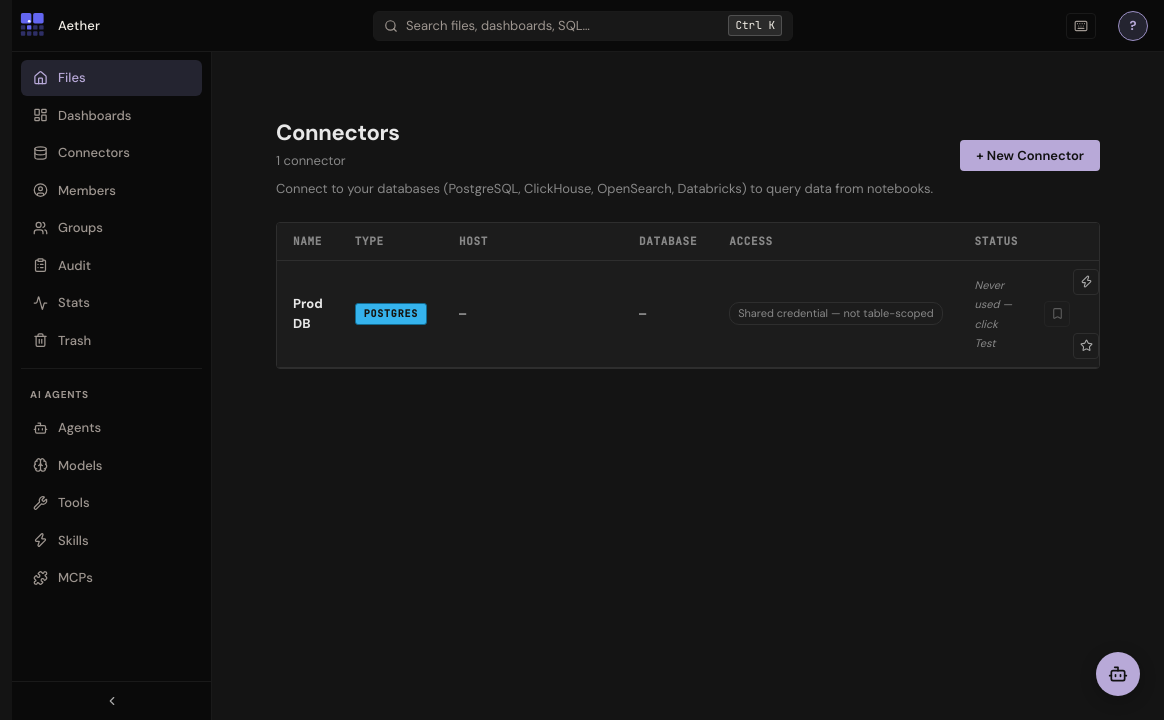
Test case: ConnectorsPage › manual Test refreshes the persisted status
The width and height of the screenshot is (1164, 720).
Expected: the text "Never used — click Test" is shown, x1=974 y1=278 x2=1012 y2=350
Click the button named "Test connection" at (1086, 282), box x1=1073 y1=268 x2=1099 y2=294
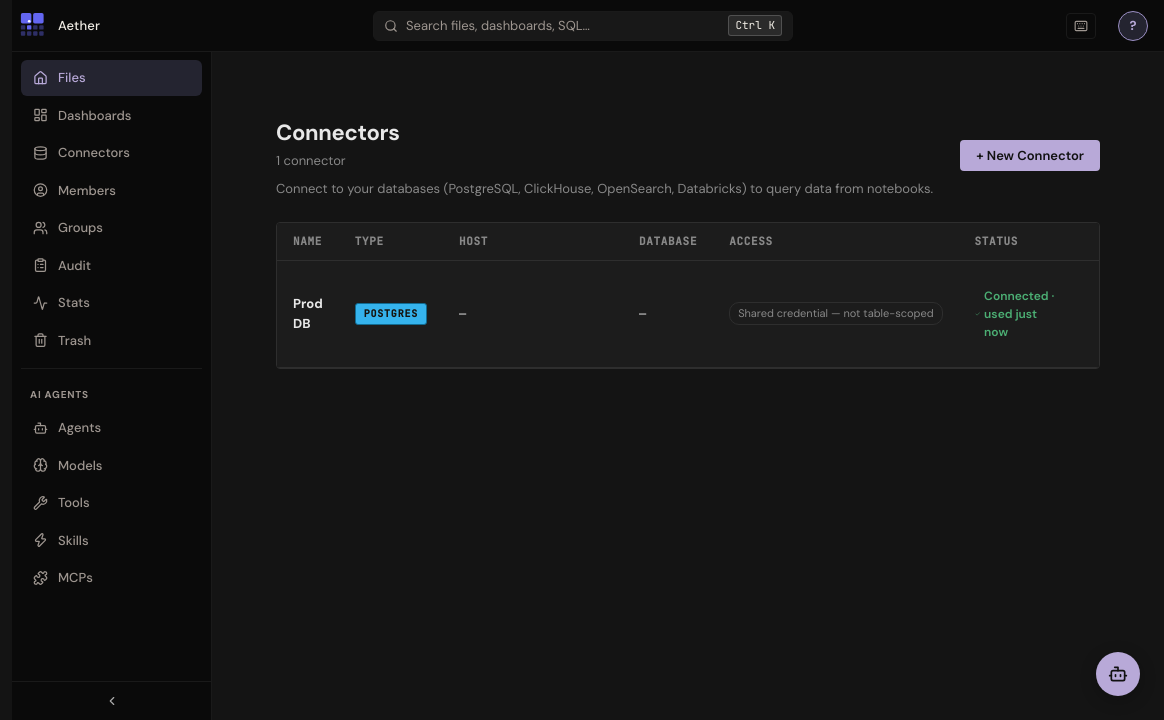
Expected: the text "Connected · used just now" is shown, x1=974 y1=286 x2=1055 y2=340
